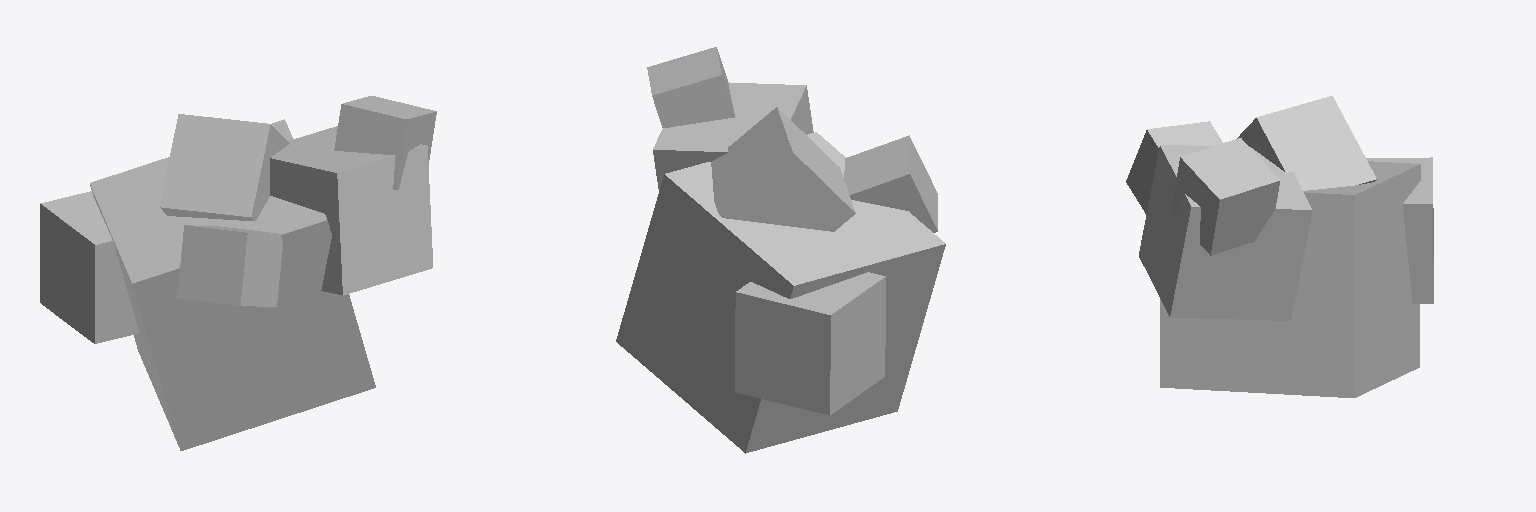
Rendered from iron_ore.obj.
3 renders of one model, left to right at view 1: azimuth 30°, elevation 25°; view 2: azimuth 150°, elevation 25°; view 3: azimuth 270°, elevation 25°, orthographic.
Parts seen in each view (by area): view 1: Cube, Cube.002, Cube.003, Cube.004, Cube.001, Cube.005; view 2: Cube, Cube.003, Cube.004, Cube.002, Cube.001, Cube.005; view 3: Cube, Cube.002, Cube.005, Cube.004, Cube.003, Cube.001.
Part boxes in pixels (x1,y1,x2,y2): Cube: (90,119,375,450); Cube.002: (270,126,432,295); Cube.003: (40,191,138,343); Cube.004: (159,114,289,221); Cube.001: (177,225,282,306); Cube.005: (334,96,436,189); Cube: (616,132,945,453); Cube.003: (735,272,885,414); Cube.004: (711,107,855,231); Cube.002: (653,82,813,189); Cube.001: (844,135,937,232); Cube.005: (647,47,734,127); Cube: (1160,161,1420,397); Cube.002: (1139,145,1312,320); Cube.005: (1171,138,1279,255); Cube.004: (1237,96,1376,190); Cube.003: (1366,157,1433,303); Cube.001: (1126,121,1222,213).
Bounding box in the file's own units: 3.39 × 3.23 × 3.